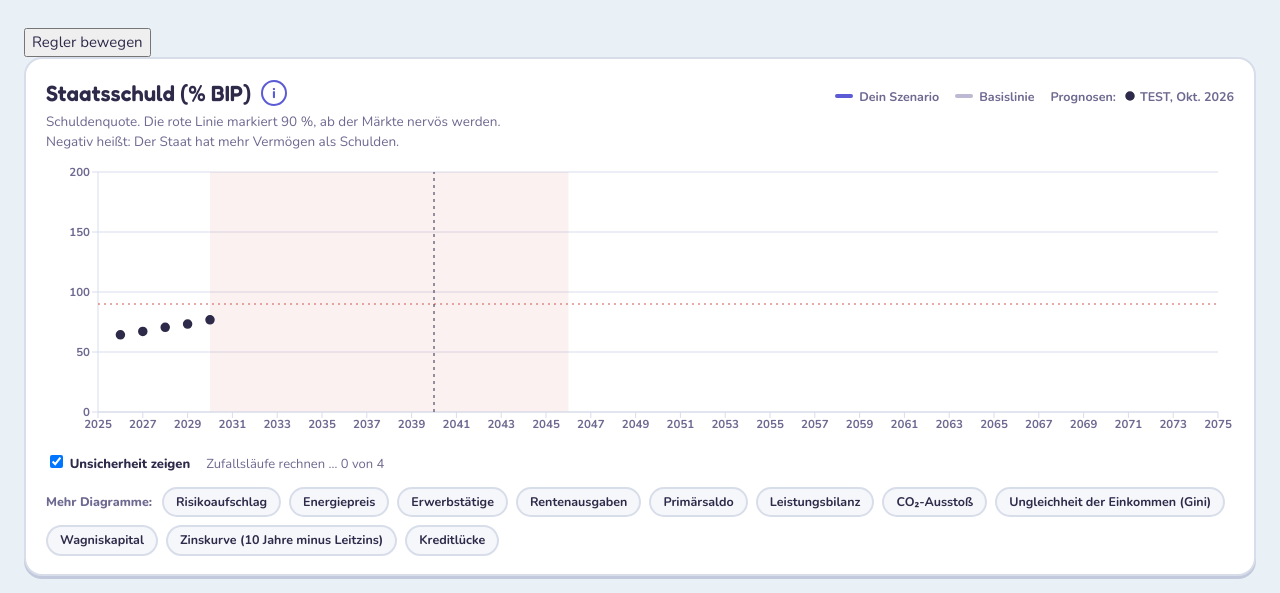
Test case: Konsens im Diagramm › Legende nennt die Quelle, (i) den Vergleich
Expected: the text "TEST, Okt. 2026" is shown, [1124, 88, 1234, 104]
Click the button named "Was bedeutet Staatsschuld?": [274, 93] box [261, 80, 287, 106]
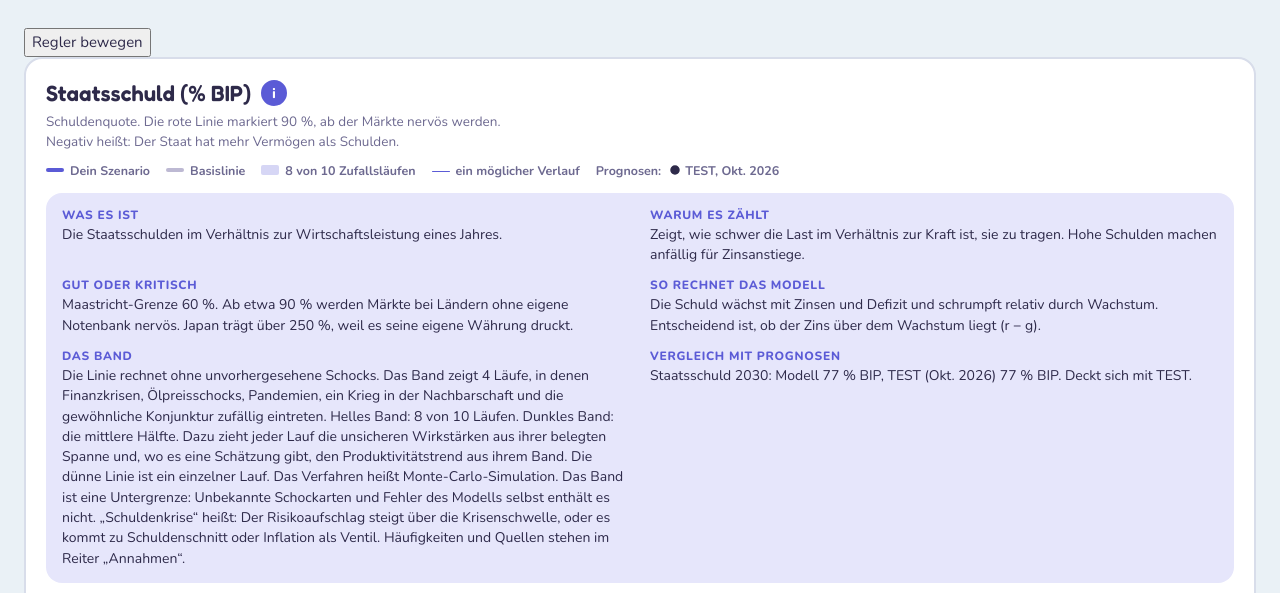
Expected: the heading "Vergleich mit Prognosen" is shown, [650, 348, 841, 364]
